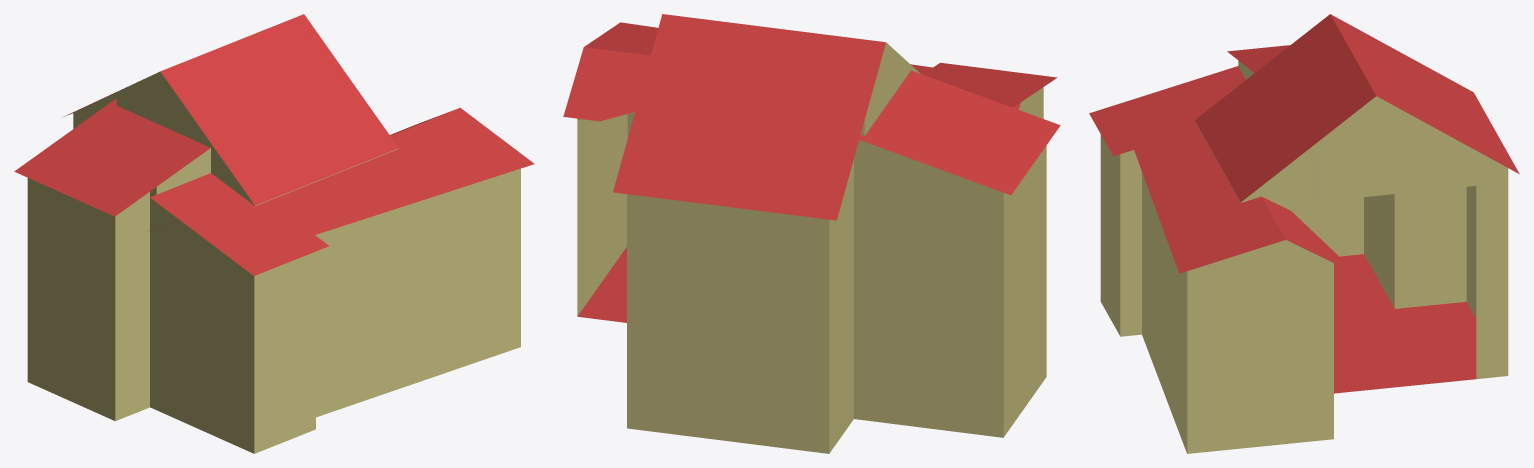
3 views of the same model, side by side, from view 1: azimuth 30°, elevation 25°; view 2: azimuth 150°, elevation 25°; view 3: azimuth 270°, elevation 25° (orthographic). The views are drawn at different scales.
Size of the model in its own units: 12.87 by 11.18 by 8.51.
